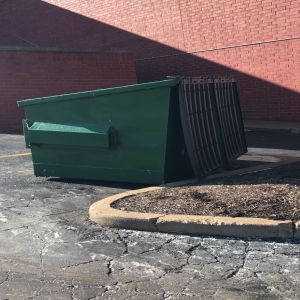Dumpster: (15, 75, 249, 179)
